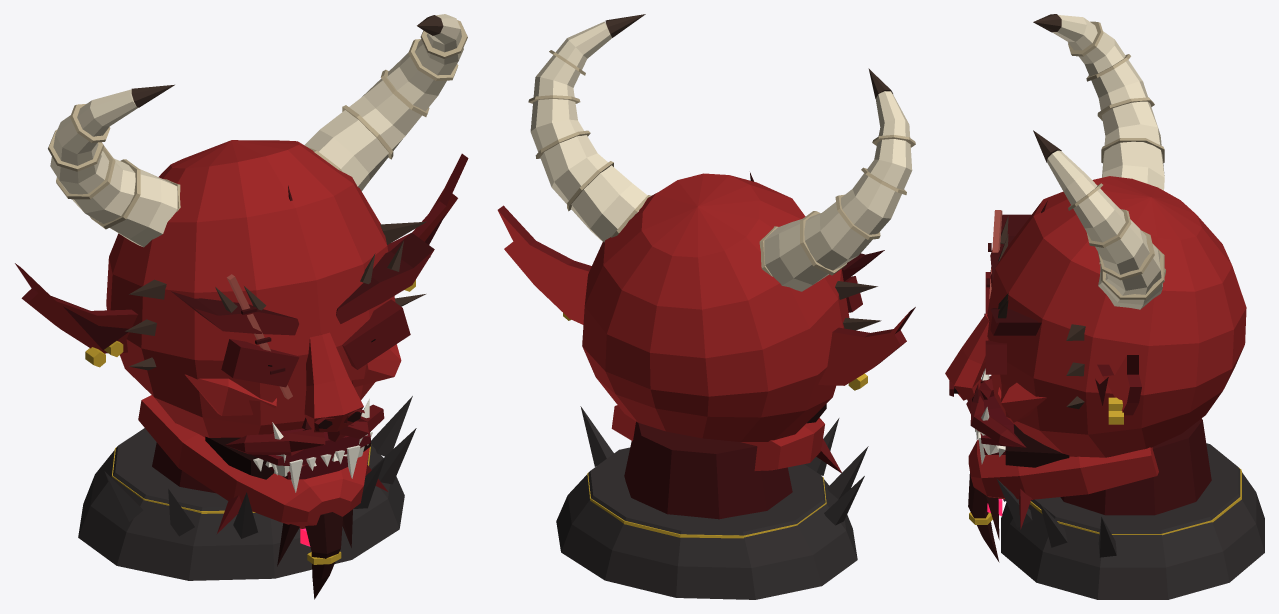
Rendered from lord.glb.
3 renders of one model, left to right at view 1: azimuth 30°, elevation 25°; view 2: azimuth 150°, elevation 25°; view 3: azimuth 270°, elevation 25°, orthographic. The views are drawn at different scales.
Visible parts, largest first — view 1: lord_skull, lord_collar, lord_horns, lord_jaw, lord_ear_l, lord_nose, lord_brow_r, lord_mouth, lord_brow_l, lord_lid_r, lord_lid_l, lord_lip_l (+2 smaller); view 2: lord_skull, lord_collar, lord_horns, lord_ear_r, lord_ear_l, lord_jaw; view 3: lord_skull, lord_collar, lord_horns, lord_jaw, lord_mouth, lord_ear_r, lord_nose, lord_brow_r, lord_lip_r, lord_brow_l, lord_lid_r.
Boxes of the visible parts, bbox=[...] form: lord_skull: bbox=[106, 140, 430, 437]; lord_collar: bbox=[78, 396, 416, 580]; lord_horns: bbox=[48, 14, 467, 247]; lord_jaw: bbox=[138, 395, 387, 599]; lord_ear_l: bbox=[15, 263, 137, 367]; lord_nose: bbox=[304, 332, 363, 432]; lord_brow_r: bbox=[336, 232, 434, 323]; lord_mouth: bbox=[205, 428, 372, 492]; lord_brow_l: bbox=[171, 286, 298, 335]; lord_lid_r: bbox=[342, 299, 410, 369]; lord_lid_l: bbox=[221, 339, 299, 387]; lord_lip_l: bbox=[225, 417, 325, 455]; lord_skull: bbox=[582, 172, 881, 441]; lord_collar: bbox=[556, 406, 868, 599]; lord_horns: bbox=[528, 14, 915, 291]; lord_ear_r: bbox=[497, 205, 591, 324]; lord_ear_l: bbox=[818, 307, 915, 390]; lord_jaw: bbox=[611, 405, 841, 472]; lord_skull: bbox=[984, 176, 1246, 457]; lord_collar: bbox=[987, 418, 1264, 599]; lord_horns: bbox=[1033, 14, 1165, 309]; lord_jaw: bbox=[968, 368, 1158, 562]; lord_mouth: bbox=[975, 396, 1069, 467]; lord_ear_r: bbox=[1095, 355, 1141, 424]; lord_nose: bbox=[945, 313, 989, 400]; lord_brow_r: bbox=[990, 293, 1041, 335]; lord_lip_r: bbox=[966, 384, 1026, 447]; lord_brow_l: bbox=[990, 214, 1031, 287]; lord_lid_r: bbox=[985, 340, 1006, 374].
Bounding box in the file's own units: 1.56 × 1.77 × 1.05.
